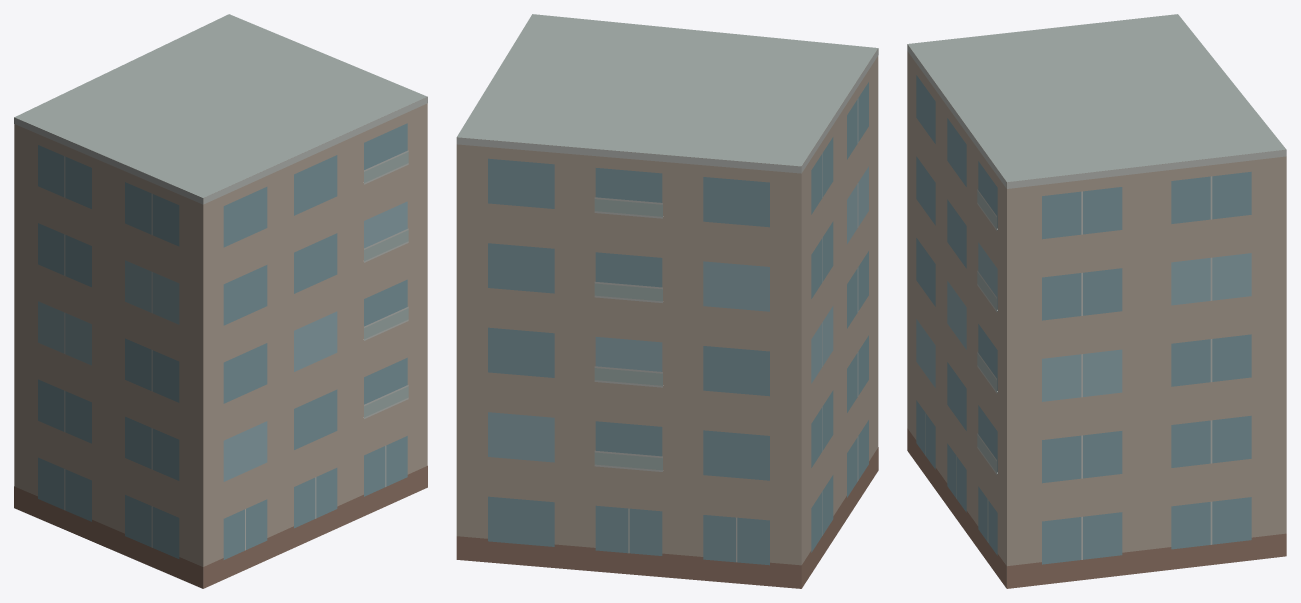
The model's file is survey-upis-32666293.glb.
3 views of the same model, side by side, from view 1: azimuth 30°, elevation 25°; view 2: azimuth 150°, elevation 25°; view 3: azimuth 270°, elevation 25° (orthographic). The views are drawn at different scales.
Parts seen in each view (by area): view 1: survey-upis-32666293.tmp; view 2: survey-upis-32666293.tmp; view 3: survey-upis-32666293.tmp.
Part boxes in pixels (left/top/right/bottom): survey-upis-32666293.tmp: left=14, top=14, right=427, bottom=588; survey-upis-32666293.tmp: left=456, top=14, right=878, bottom=588; survey-upis-32666293.tmp: left=907, top=14, right=1286, bottom=588.
Size of the model in its own units: 12.92 by 14.55 by 12.31.
